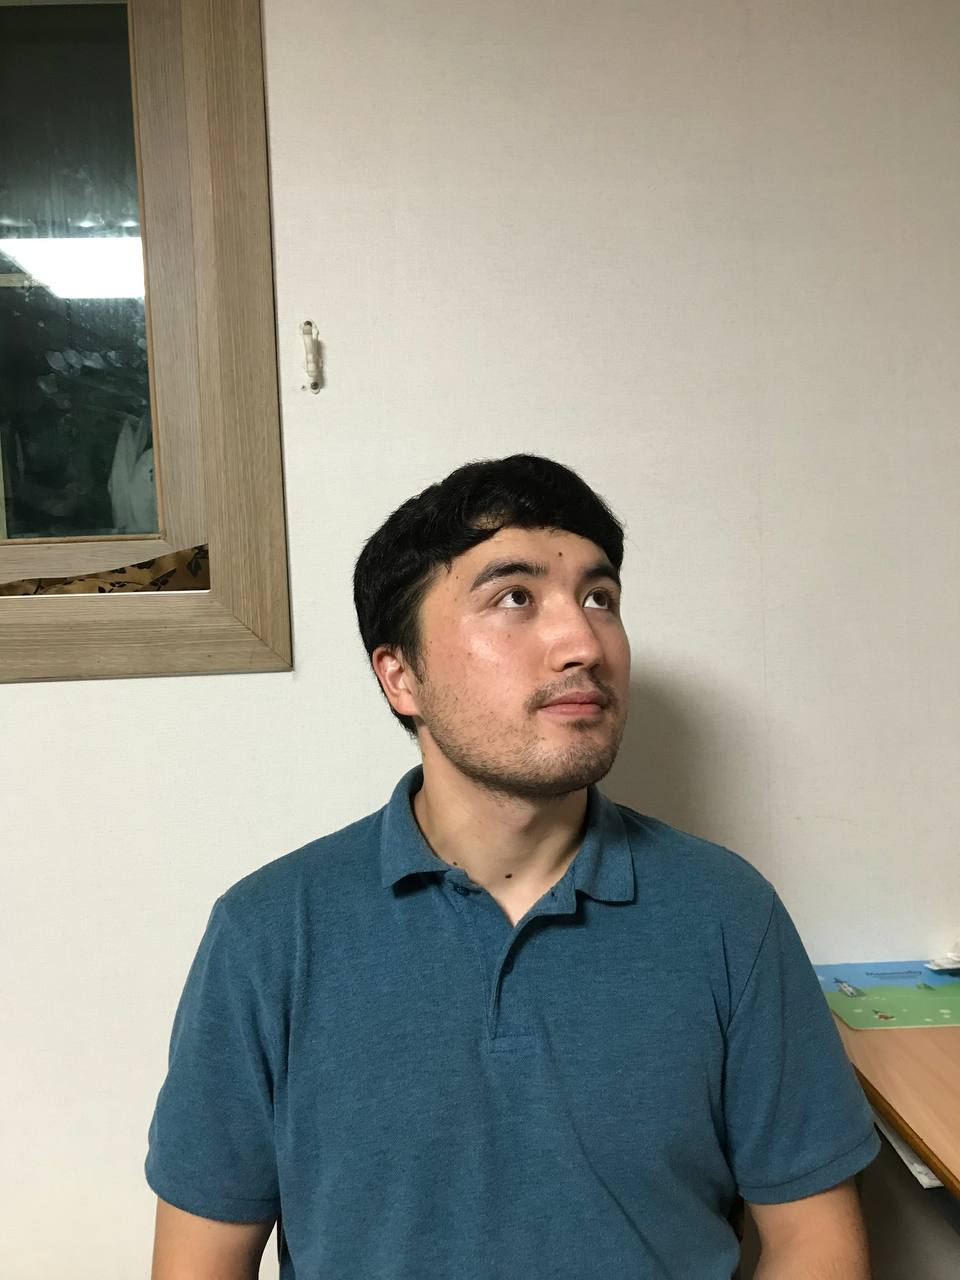NoMask: (359, 631, 656, 797)
